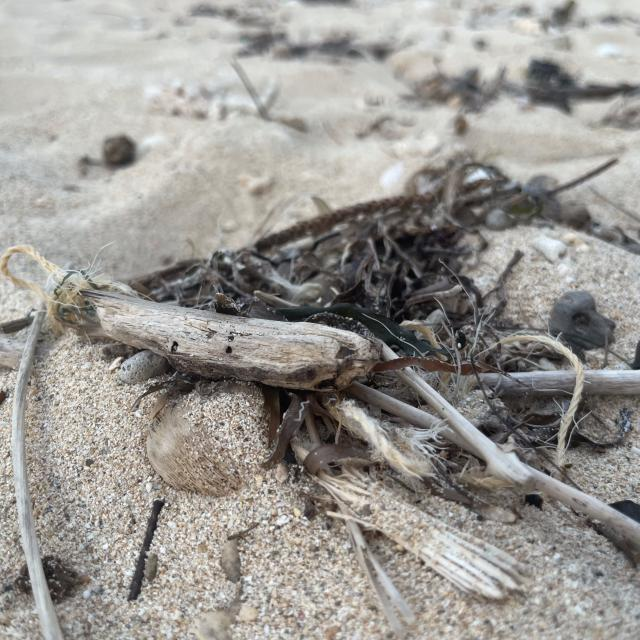seaweed: (69, 117, 589, 382)
stick: (41, 270, 374, 395)
